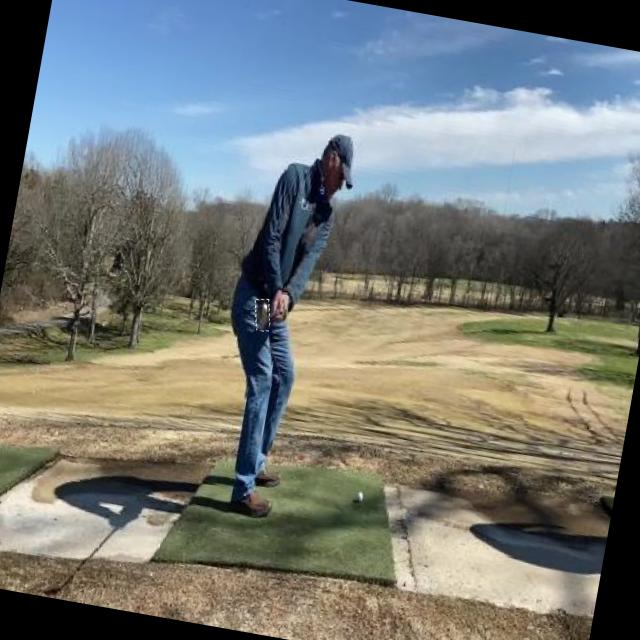club head: (251, 298, 272, 332)
